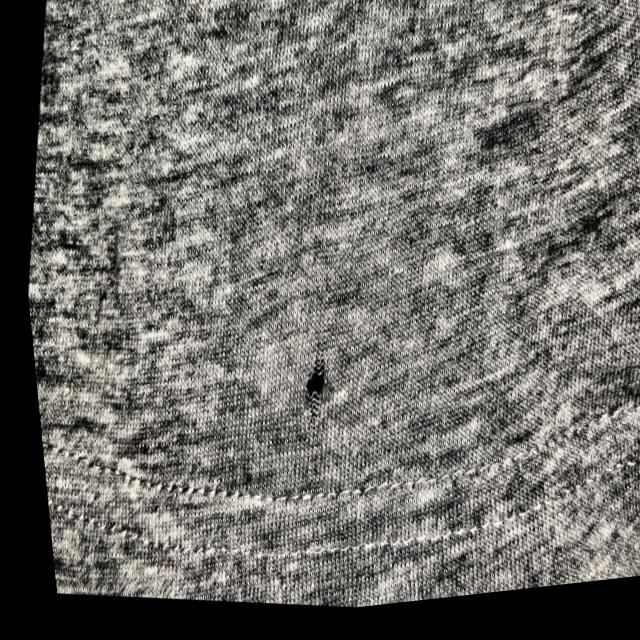Hole: (281, 345, 333, 445)
